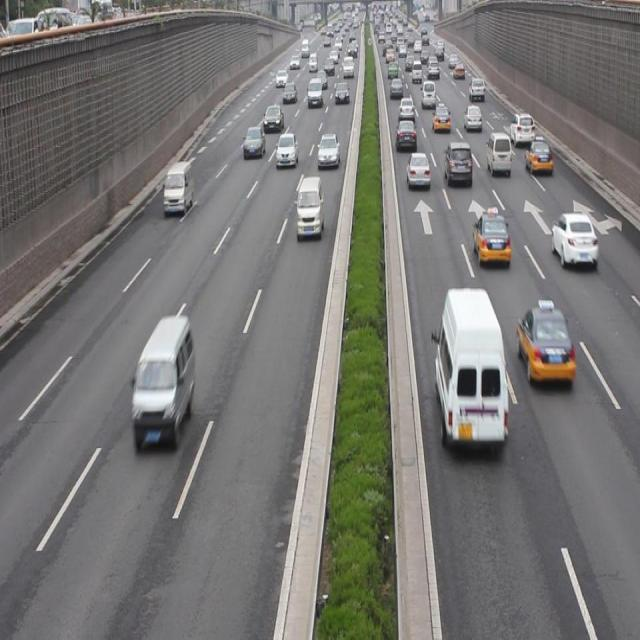car: (516, 296, 574, 386), (550, 211, 595, 269), (472, 205, 509, 267), (443, 144, 471, 182), (523, 139, 551, 175), (406, 151, 428, 192), (316, 132, 341, 168), (507, 112, 533, 146), (274, 131, 298, 165), (395, 118, 415, 152), (243, 126, 264, 158), (432, 102, 450, 130), (463, 106, 481, 130)
truck: (432, 285, 507, 449), (131, 318, 195, 449), (296, 177, 322, 240), (164, 159, 191, 216), (485, 133, 512, 176)
